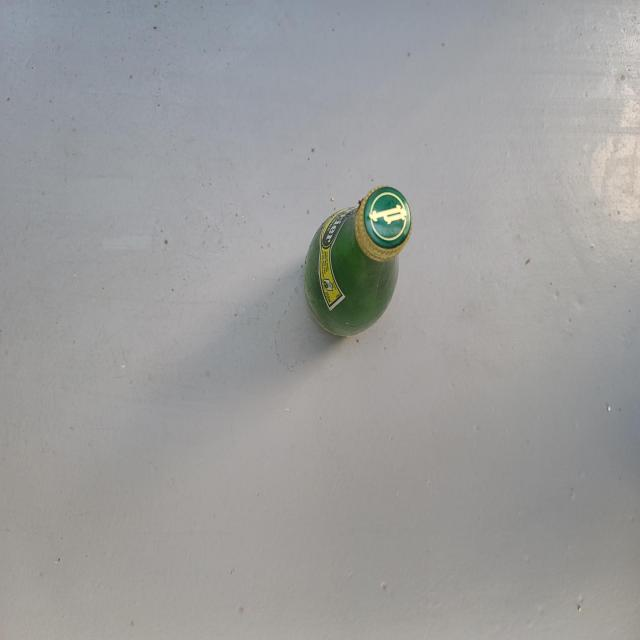glass: (304, 185, 413, 336)
